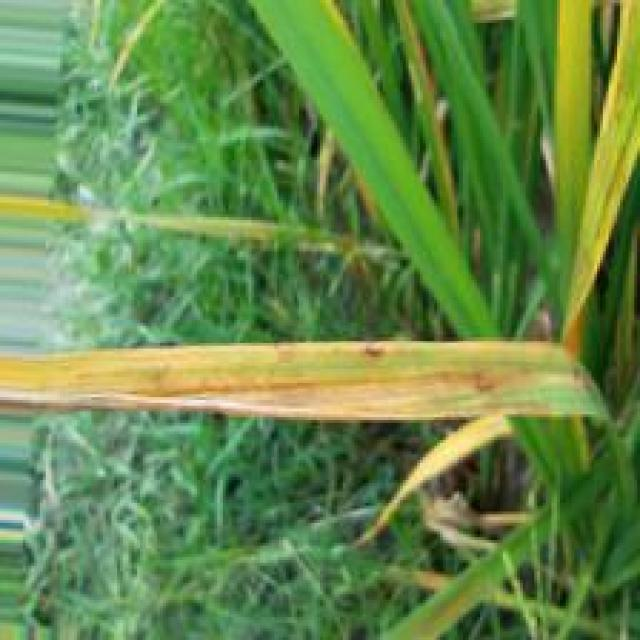Bacterial_Leaf_Blight: (123, 370, 549, 420), (361, 344, 389, 361), (152, 362, 173, 383), (274, 348, 294, 362)
